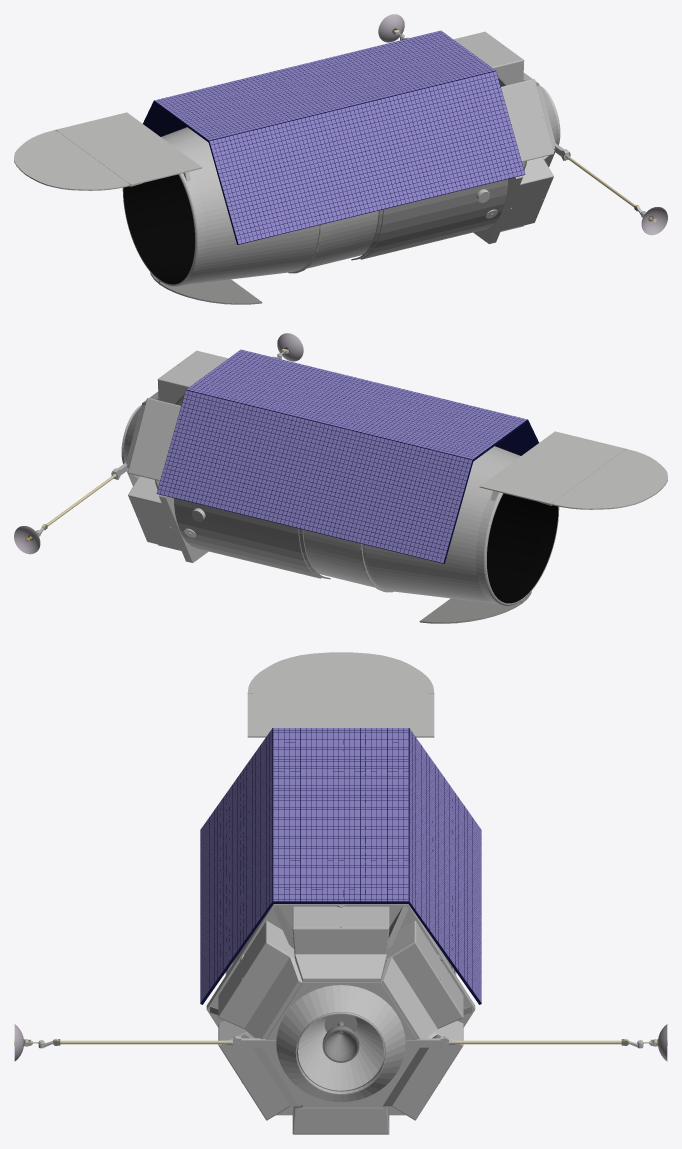
Rendered from nancy-grace-roman-space-telescope-b.glb.
3 renders of one model, top to bottom at view 1: azimuth 30°, elevation 25°; view 2: azimuth 150°, elevation 25°; view 3: azimuth 270°, elevation 25°, orthographic. The views are drawn at different scales.
Parts seen in each view (by area): view 1: Wfirst-maintube; view 2: Wfirst-maintube; view 3: Wfirst-maintube.
Boxes of the visible parts, left/top/right/bottom form: Wfirst-maintube: left=14, top=14, right=667, bottom=304; Wfirst-maintube: left=14, top=333, right=667, bottom=623; Wfirst-maintube: left=14, top=652, right=667, bottom=1134.
Bounding box in the file's own units: 412 × 131 × 364.
Materials: 2 (2 with a texture image).
